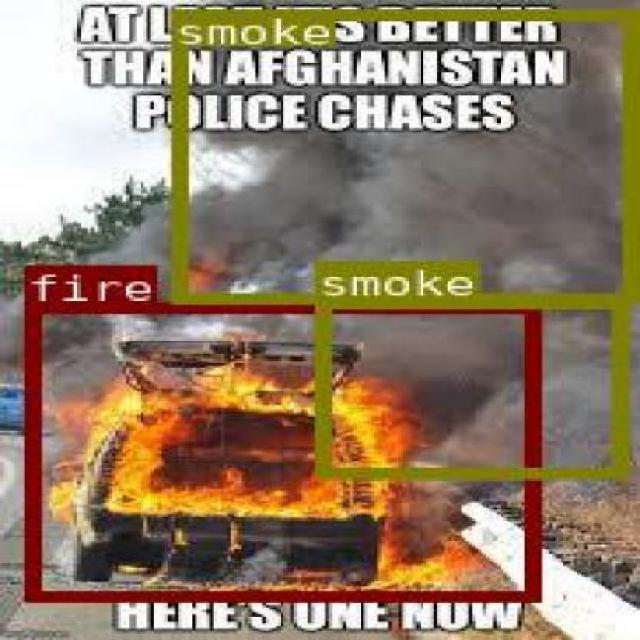Fire: (23, 302, 539, 600)
Smoke: (170, 8, 633, 301), (314, 298, 626, 477)
